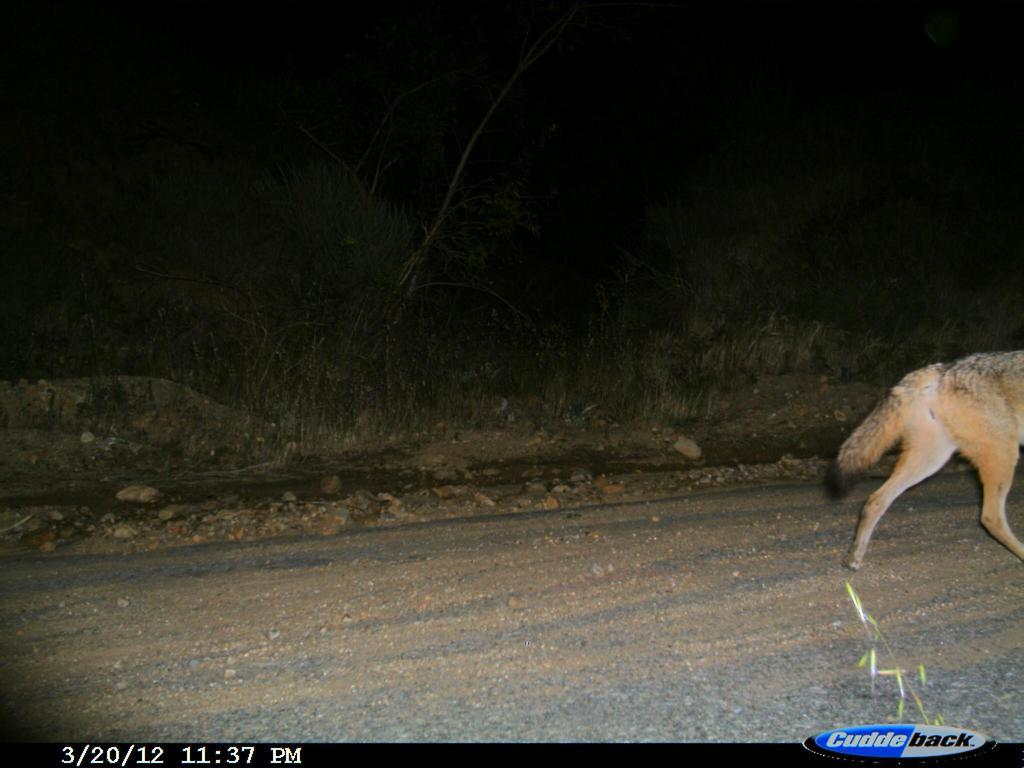coyote: (818, 322, 1023, 579)
